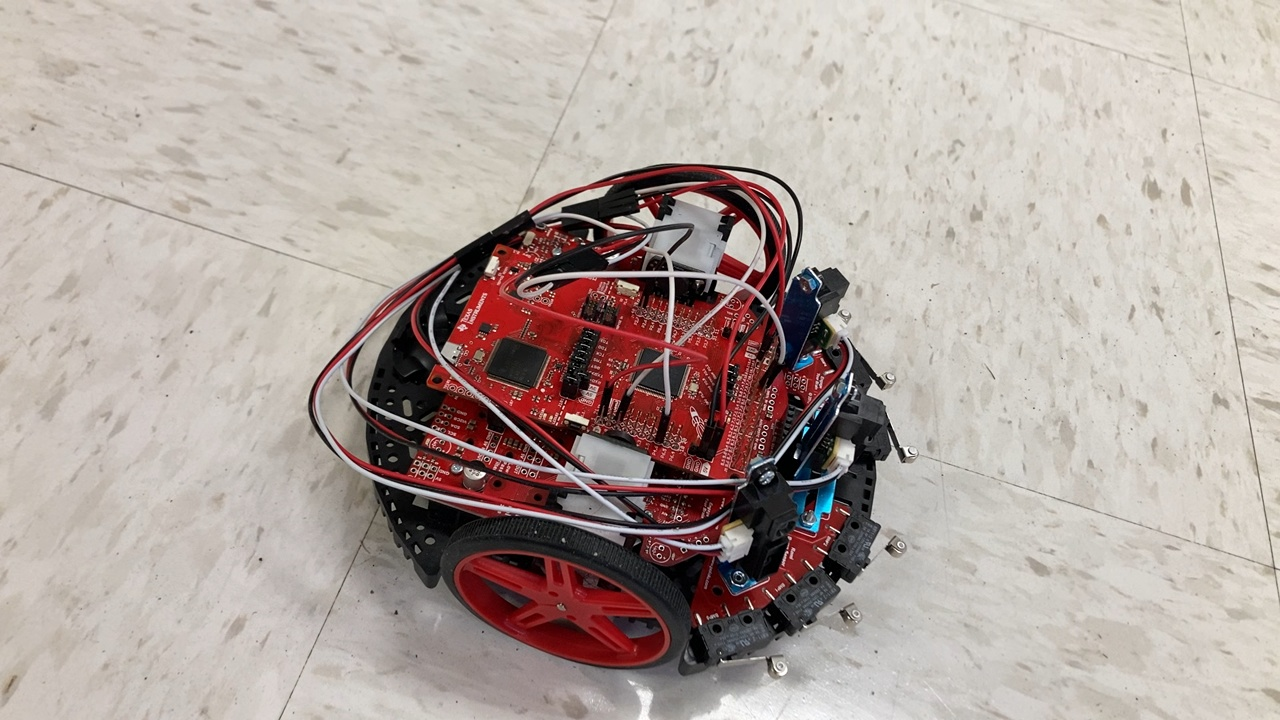robot: (306, 156, 926, 684)
